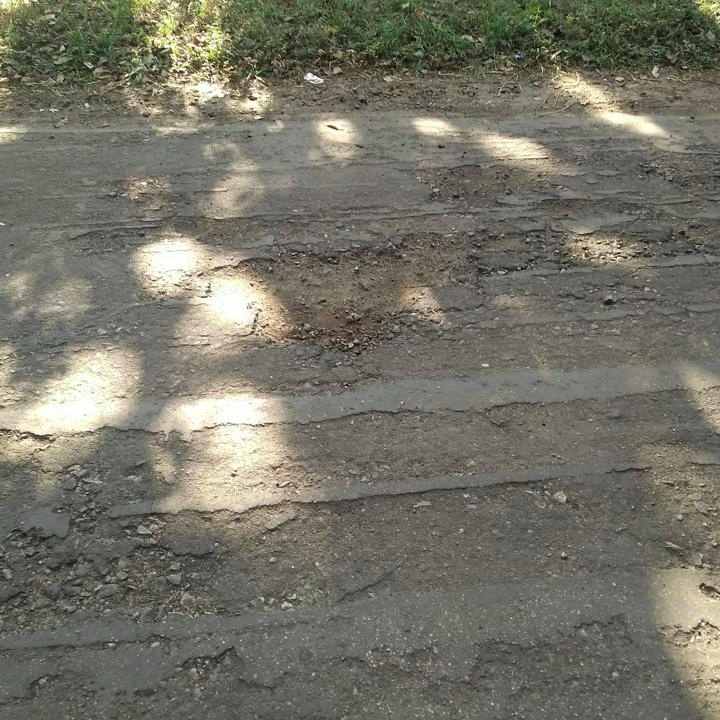pothole: (193, 232, 504, 350)
